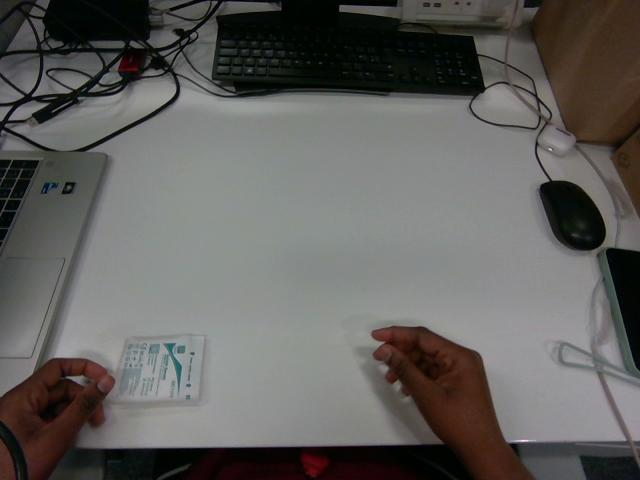gauze: (112, 335, 204, 404)
